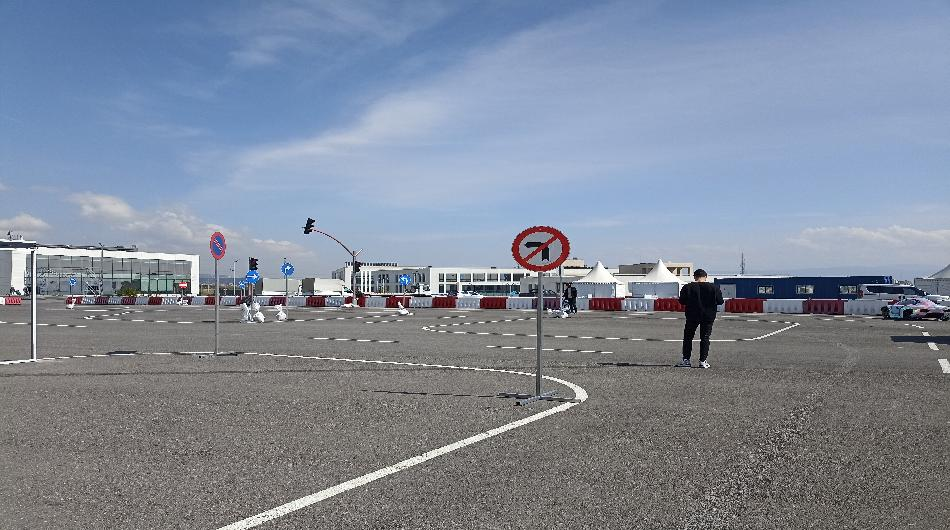park_yapilmaz_1: (208, 232, 229, 261)
sola_donulmez: (513, 227, 570, 267)
